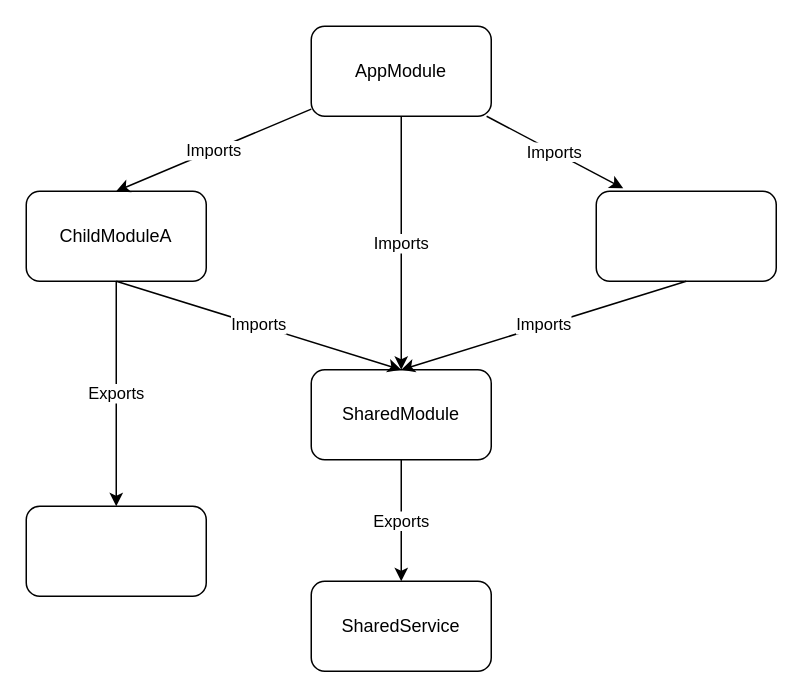
This 803x698 diagram has some shape labels left out. The centre of each missing label's shape, as x and y in pixels:
ChildAService: pixel 115 550
ChildModuleB: pixel 685 235
